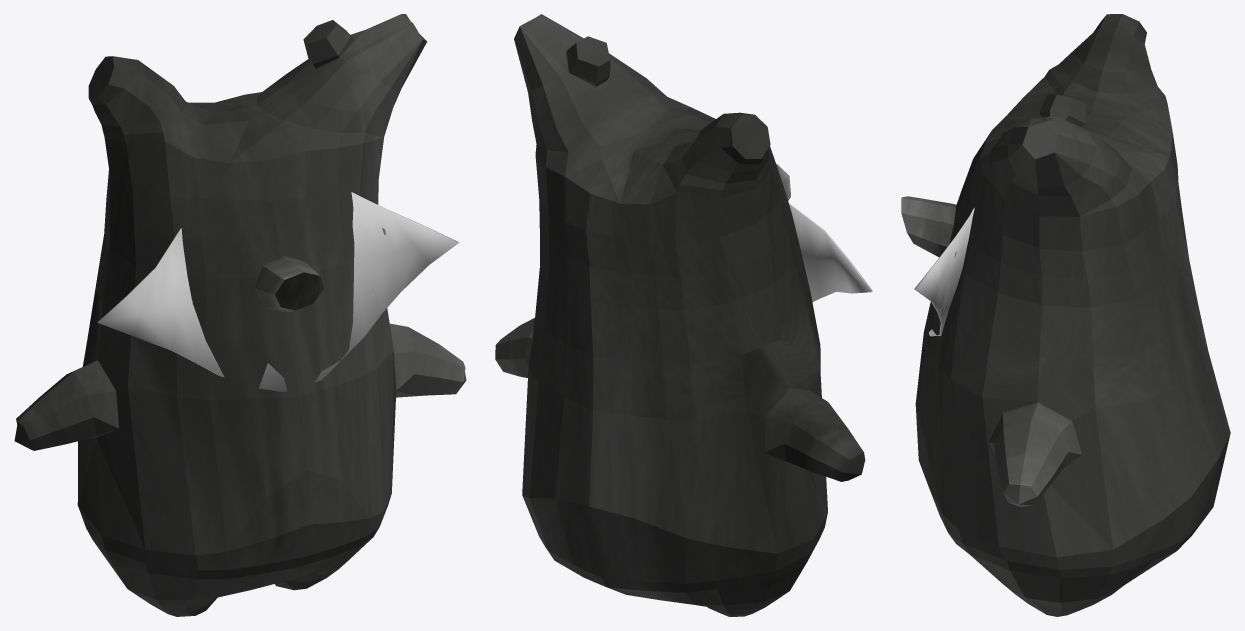
File: frame_0135.obj
3 views of the same model, side by side, from view 1: azimuth 30°, elevation 25°; view 2: azimuth 150°, elevation 25°; view 3: azimuth 270°, elevation 25° (orthographic). The views are drawn at different scales.
Visible parts, largest first — view 1: korok, leaf, nose; view 2: korok, leaf; view 3: korok, leaf, nose.
Boxes of the visible parts, x1=… form: korok: x1=14, y1=14, x2=466, y2=616; leaf: x1=97, y1=192, x2=458, y2=392; nose: x1=254, y1=256, x2=323, y2=312; korok: x1=495, y1=14, x2=865, y2=616; leaf: x1=789, y1=203, x2=872, y2=302; korok: x1=915, y1=14, x2=1230, y2=616; leaf: x1=914, y1=207, x2=974, y2=336; nose: x1=901, y1=196, x2=956, y2=257.
Size of the model in its own units: 1.7 by 2.19 by 1.22.
